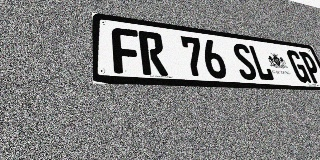6: (200, 38, 229, 79)
7: (179, 36, 208, 78)
F: (111, 27, 142, 75)
G: (285, 50, 312, 83)
L: (248, 45, 275, 81)
P: (298, 51, 320, 84)
R: (138, 30, 168, 76)
S: (231, 42, 259, 80)
